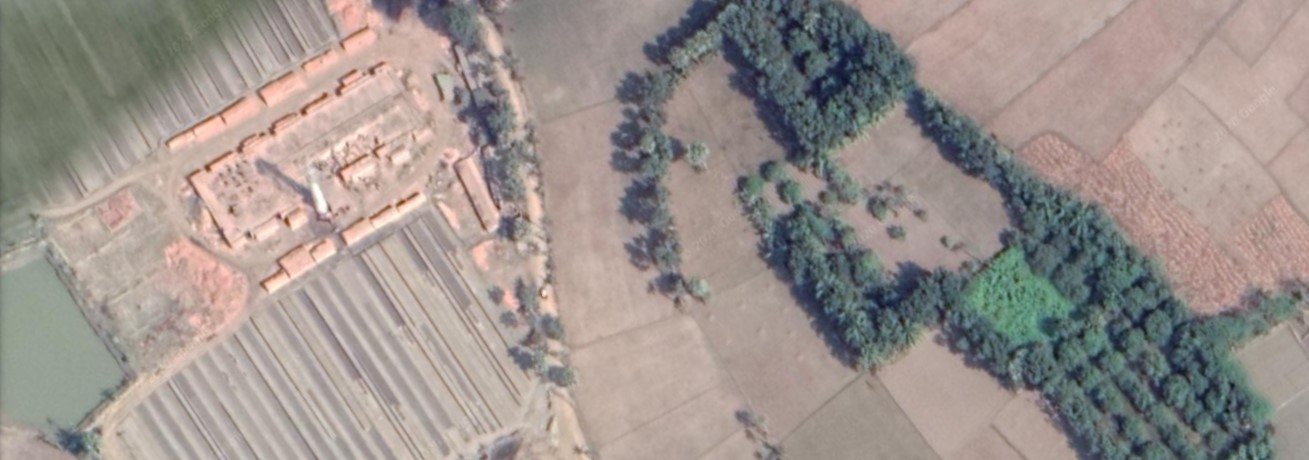kiln: (168, 115, 454, 261)
